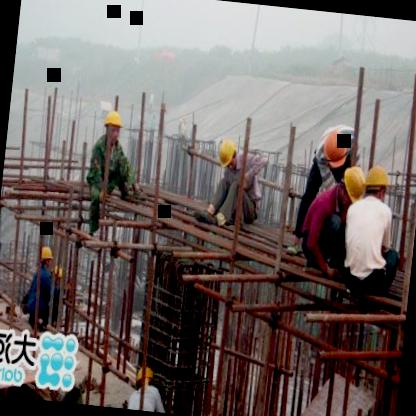helmet: (315, 124, 352, 173), (362, 160, 394, 206), (338, 165, 368, 206), (98, 105, 126, 147), (216, 136, 242, 174), (32, 240, 56, 272), (133, 362, 157, 392)
